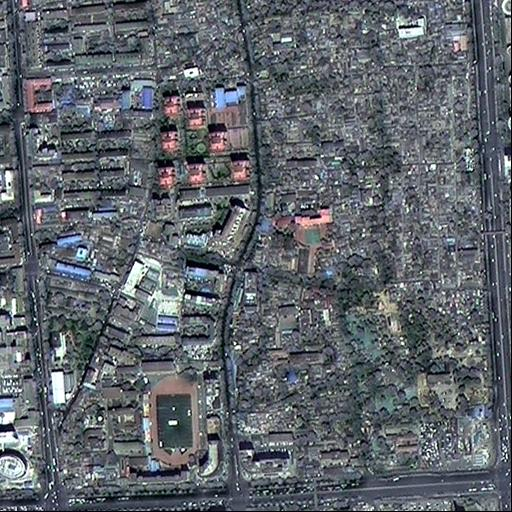school: (56, 351, 237, 492), (287, 206, 335, 277), (208, 78, 249, 128)
